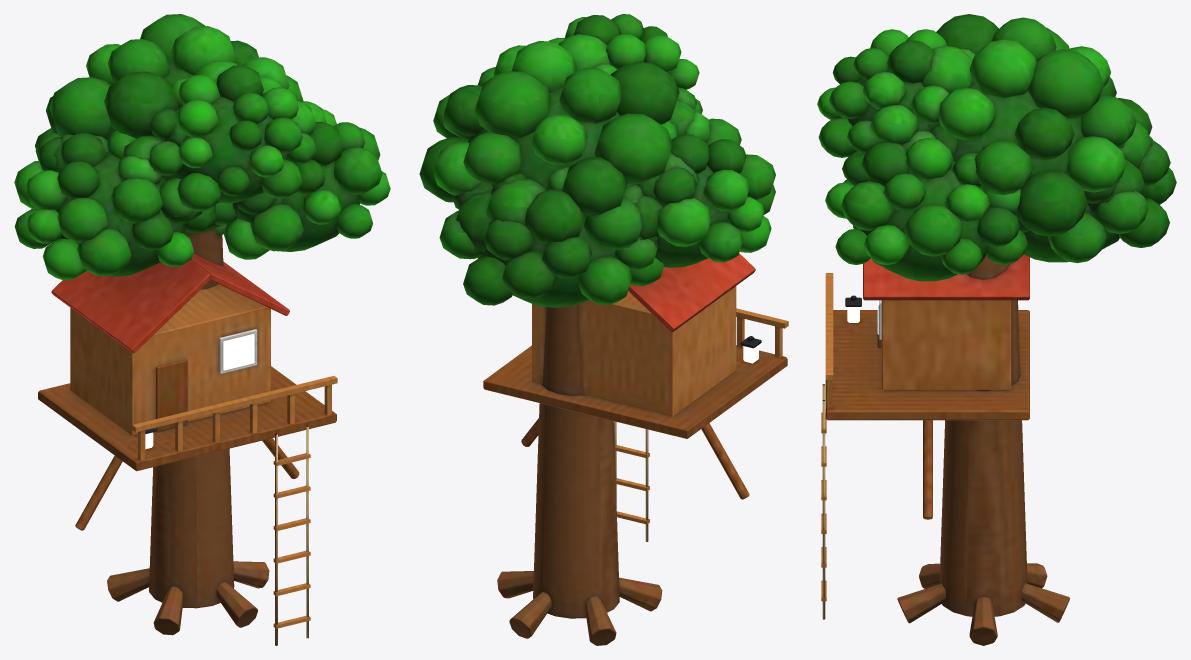
Rendered from treehouse.glb.
3 views of the same model, side by side, from view 1: azimuth 30°, elevation 25°; view 2: azimuth 150°, elevation 25°; view 3: azimuth 270°, elevation 25° (orthographic). The views are drawn at different scales.
Parts seen in each view (by area): view 1: treehouse; view 2: treehouse; view 3: treehouse.
Boxes of the visible parts, box(x1,y1,x2,y2) form: treehouse: box(14, 14, 390, 645); treehouse: box(419, 14, 788, 645); treehouse: box(817, 14, 1176, 645).
Size of the model in its own units: 2.16 by 3.46 by 1.94.
1 material, 1 textured.
